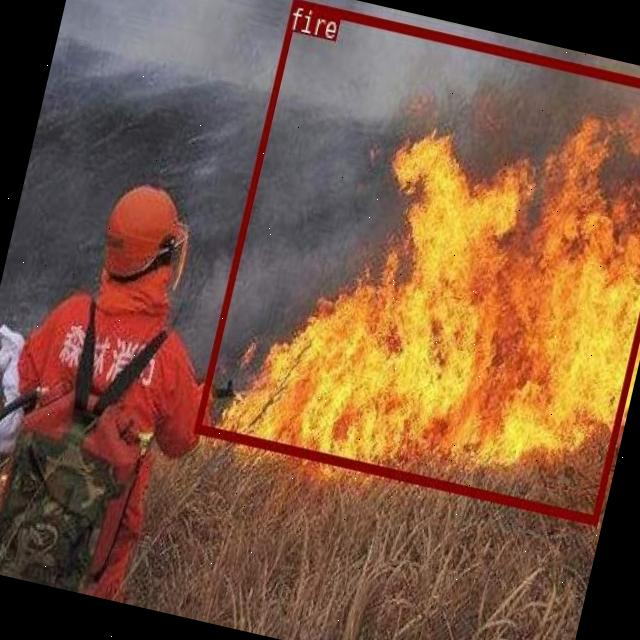fire: (192, 0, 640, 522)
